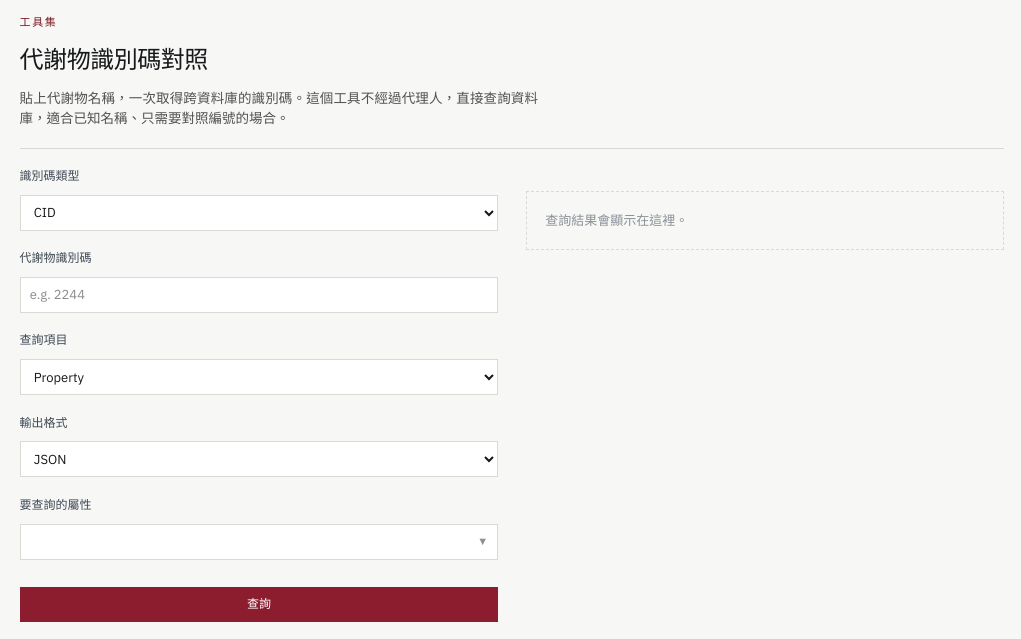
Test: MappingTool › shows an error card when the backend errors
Type "999999999" into the field with placeholder "e.g. 2244" at (259, 295), box [20,277,498,313]
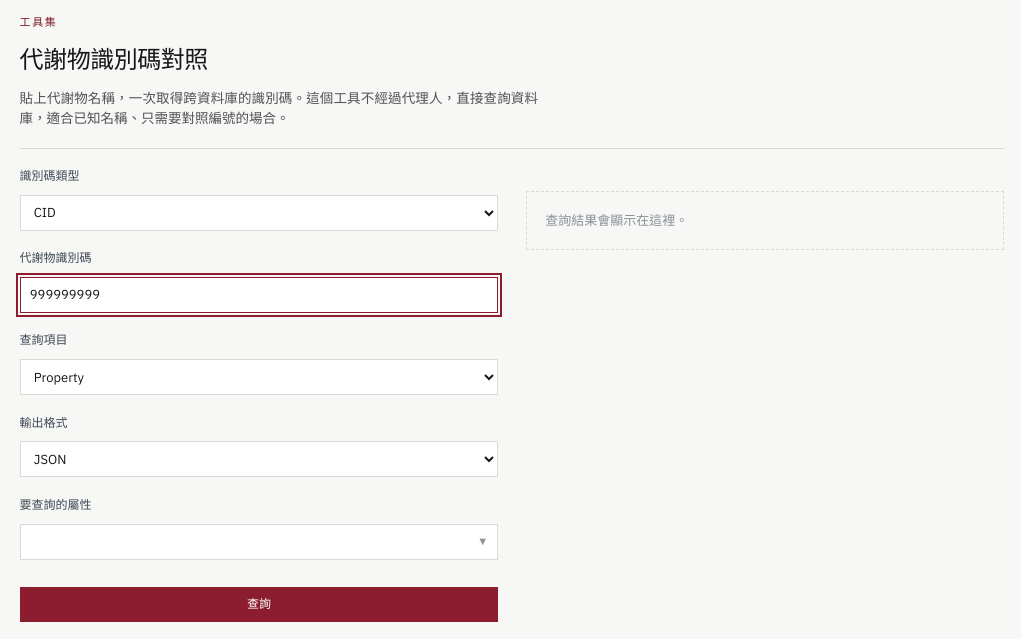
Click the button "查詢" at (259, 605), box [20,587,498,622]
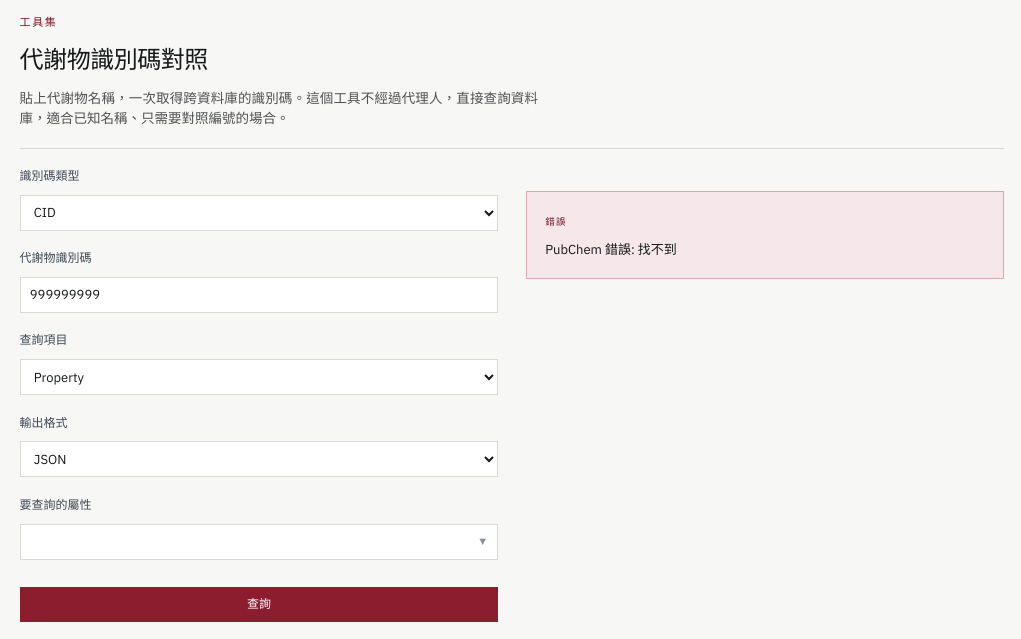
Expected: the message "錯誤 PubChem 錯誤: 找不到" is shown, [526,191,1004,279]
Expected: the text "PubChem 錯誤: 找不到" is shown, [545,241,677,258]
